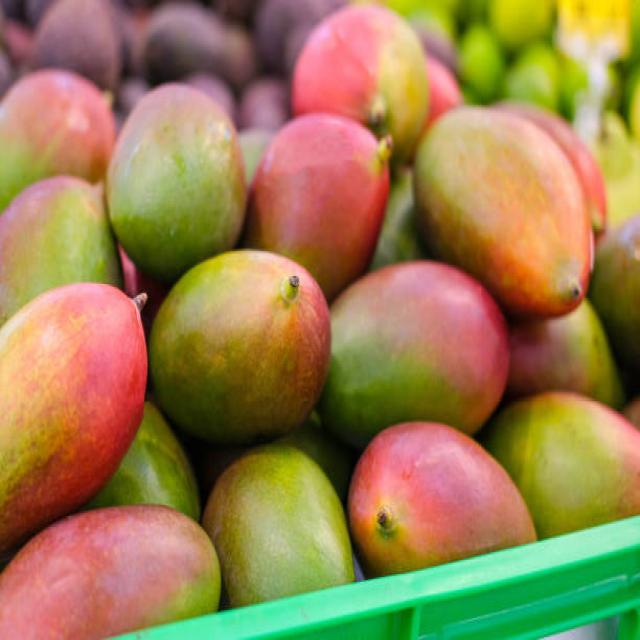mango: (0, 283, 148, 552), (415, 107, 594, 316), (319, 261, 510, 447), (149, 251, 331, 443), (0, 506, 220, 639), (348, 424, 536, 577), (106, 82, 246, 282), (244, 114, 391, 300), (202, 442, 353, 607), (481, 392, 640, 538), (291, 6, 429, 162), (0, 176, 122, 325), (0, 69, 116, 211), (508, 300, 624, 408)
